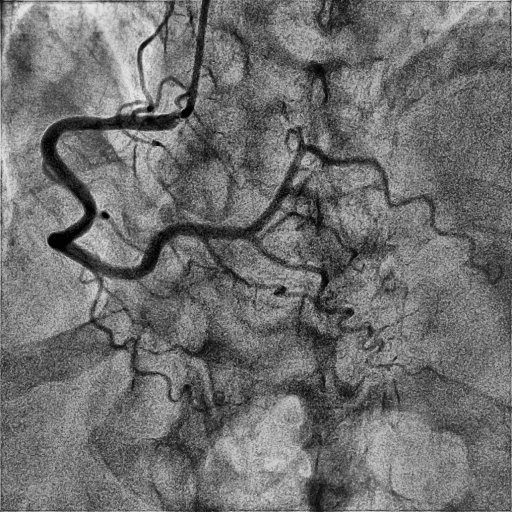pborca: (249, 142, 476, 252)
pda: (247, 235, 385, 353)
rca: (41, 111, 254, 279)
